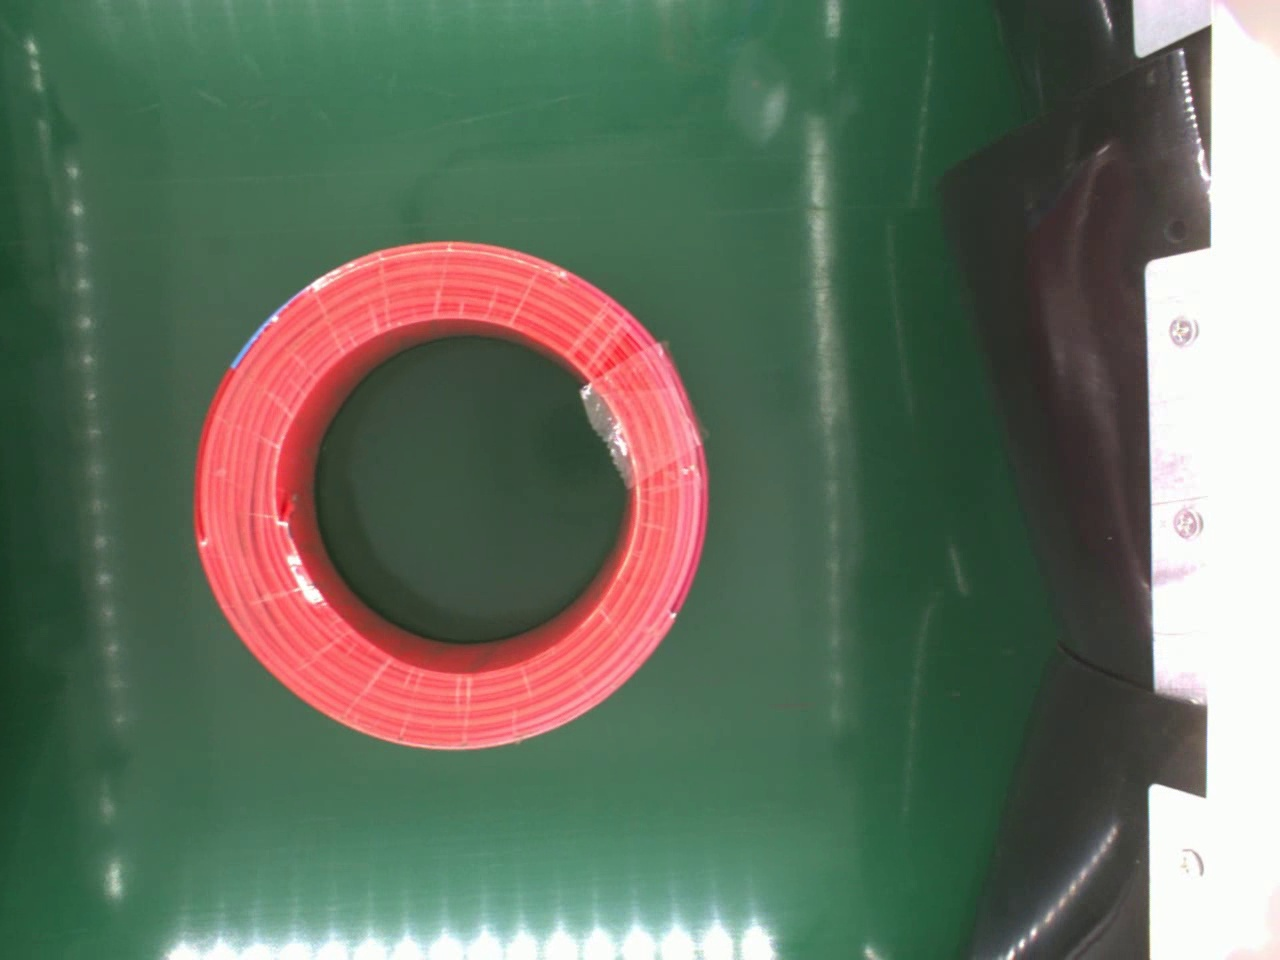red: (186, 239, 709, 752)
